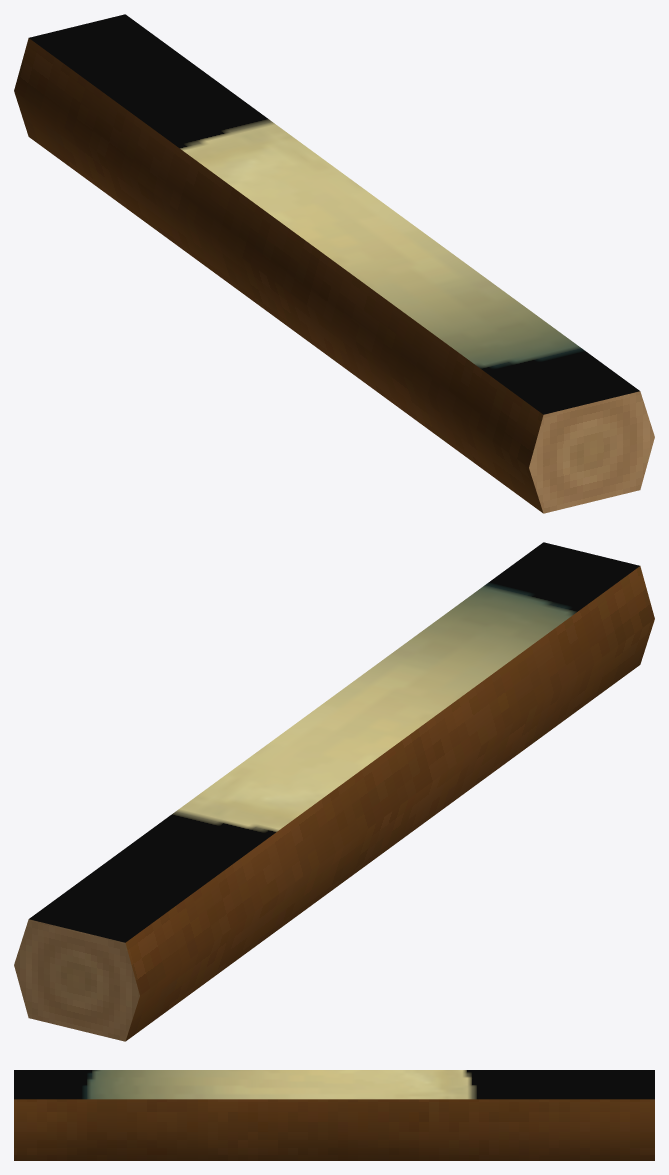
The model's file is Docks_Support_Brace_1x1.fbx.
3 renders of one model, top to bottom at view 1: azimuth 30°, elevation 25°; view 2: azimuth 150°, elevation 25°; view 3: azimuth 270°, elevation 25°, orthographic. The views are drawn at different scales.
Visible parts, largest first — view 1: Docks_Support_Brace_1x1; view 2: Docks_Support_Brace_1x1; view 3: Docks_Support_Brace_1x1.
Boxes of the visible parts, x1,y1,x2,y2 form: Docks_Support_Brace_1x1: (14,14,654,513); Docks_Support_Brace_1x1: (14,542,654,1041); Docks_Support_Brace_1x1: (14,1070,654,1160).
Size of the model in its own units: 12.5 by 9.38 by 88.44.
